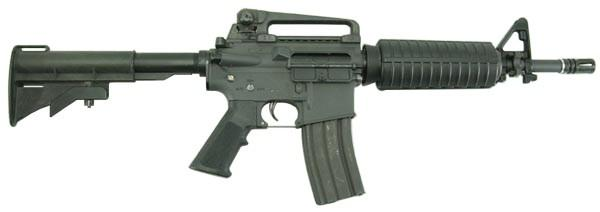blood: (4, 5, 594, 211)
